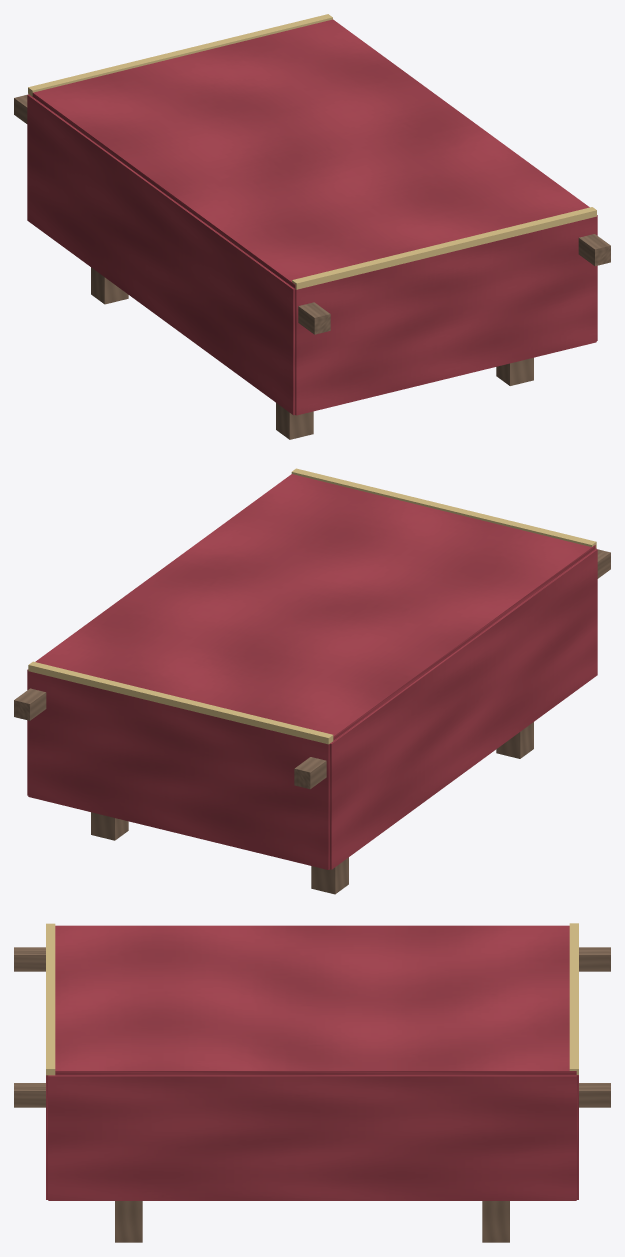
Rendered from vampire-crypt-and-gothic-cathedral-bier-5ff31f32__23020.glb.
3 renders of one model, top to bottom at view 1: azimuth 30°, elevation 25°; view 2: azimuth 150°, elevation 25°; view 3: azimuth 270°, elevation 25°, orthographic.
Visible parts, largest first — view 1: bier; view 2: bier; view 3: bier.
Part boxes in pixels (x1,y1,x2,y2): bier: [14, 14, 610, 439]; bier: [14, 468, 610, 894]; bier: [14, 923, 610, 1242].
Size of the model in its own units: 1.52 by 0.9 by 2.6.
Materials: 3 (2 with a texture image).
